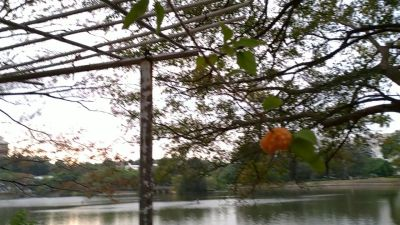eggs: (261, 126, 293, 154)
